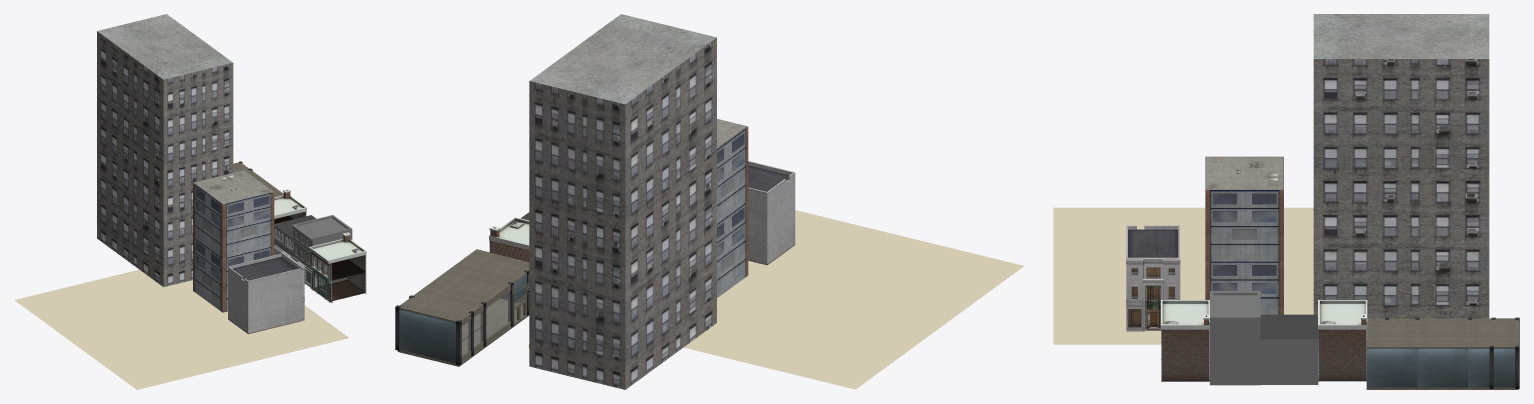
The picture shows the model from 3 angles, left to right: view 1: azimuth 30°, elevation 25°; view 2: azimuth 150°, elevation 25°; view 3: azimuth 270°, elevation 25°; orthographic projection. The views are drawn at different scales.
Parts seen in each view (by area): view 1: Highrise Backdrop Dummy 02, Terrain 11,5, Highrise Backdrop Dummy 04, Rodeo Collection Store I (×4), Type A _blue (×4), Soho - Building 1 A (×3), Texture Store, Maya's - Intimate Cafe Mesh; view 2: Highrise Backdrop Dummy 02, Terrain 11,5, Texture Store, Highrise Backdrop Dummy 04, Rodeo Collection Store I (×3), Type A _blue; view 3: Highrise Backdrop Dummy 02, Terrain 11,5, Highrise Backdrop Dummy 04, Texture Store, Type A _blue (×4), Rodeo Collection Store I (×3), Soho - Building 1 A (×4), Maya's - Intimate Cafe Mesh (×3).
Part boxes in pixels (x1,y1,x2,y2): Highrise Backdrop Dummy 02: [97, 14, 233, 287]; Terrain 11,5: [14, 269, 348, 389]; Highrise Backdrop Dummy 04: [193, 170, 274, 312]; Rodeo Collection Store I (×4): [228, 251, 305, 333]; Type A _blue (×4): [274, 189, 366, 301]; Soho - Building 1 A (×3): [291, 215, 352, 253]; Texture Store: [233, 161, 283, 197]; Maya's - Intimate Cafe Mesh: [274, 215, 316, 238]; Highrise Backdrop Dummy 02: [529, 14, 716, 389]; Terrain 11,5: [684, 210, 1023, 389]; Texture Store: [395, 249, 529, 366]; Highrise Backdrop Dummy 04: [717, 119, 748, 297]; Rodeo Collection Store I (×3): [748, 165, 794, 263]; Type A _blue: [489, 217, 529, 250]; Highrise Backdrop Dummy 02: [1313, 14, 1489, 318]; Terrain 11,5: [1053, 207, 1313, 344]; Highrise Backdrop Dummy 04: [1205, 156, 1283, 314]; Texture Store: [1366, 315, 1519, 389]; Type A _blue (×4): [1161, 300, 1367, 381]; Rodeo Collection Store I (×3): [1126, 229, 1180, 331]; Soho - Building 1 A (×4): [1210, 291, 1260, 385]; Maya's - Intimate Cafe Mesh (×3): [1260, 314, 1318, 384].
Size of what is drawn, in the model's own units: 84.49 by 60.19 by 91.96.
Materials: 135 (115 with a texture image).
